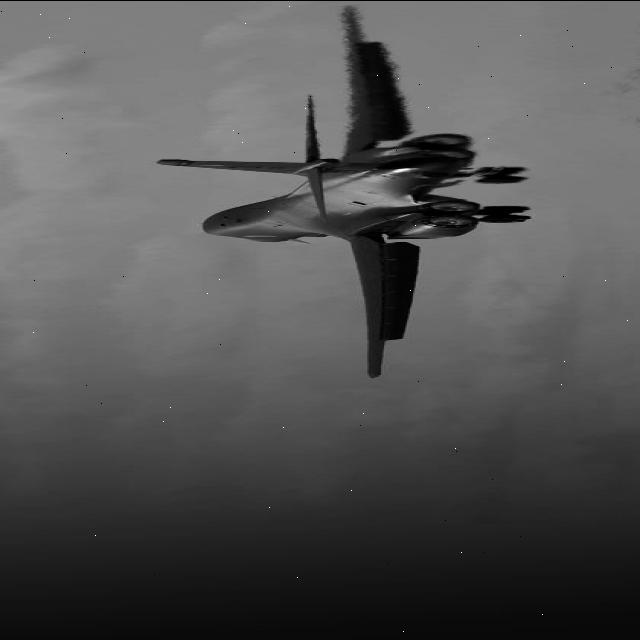B1: (138, 0, 556, 392)
